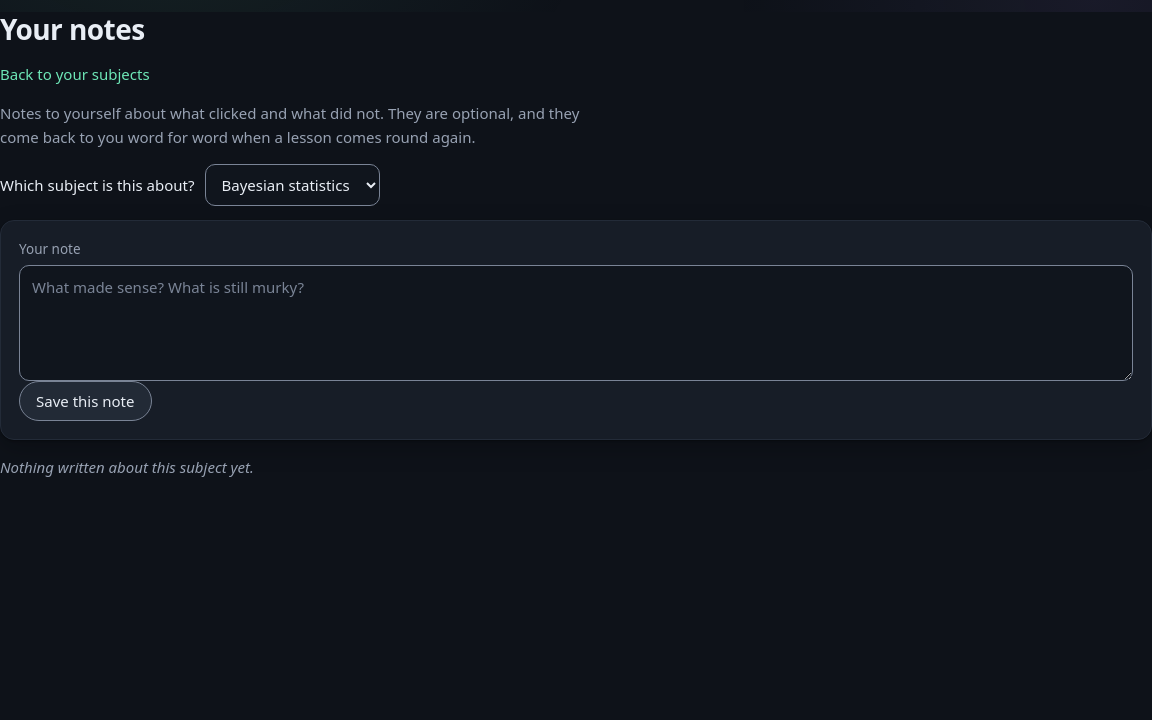
the reflection journal › shows the latest version after an edit, still verbatim
The width and height of the screenshot is (1152, 720).
Expected: the element with test id "journal" is shown, [0,164,1151,479]
Type "first thought" into the text box with test id "reflection-text" at (576,323), box [19,265,1133,381]
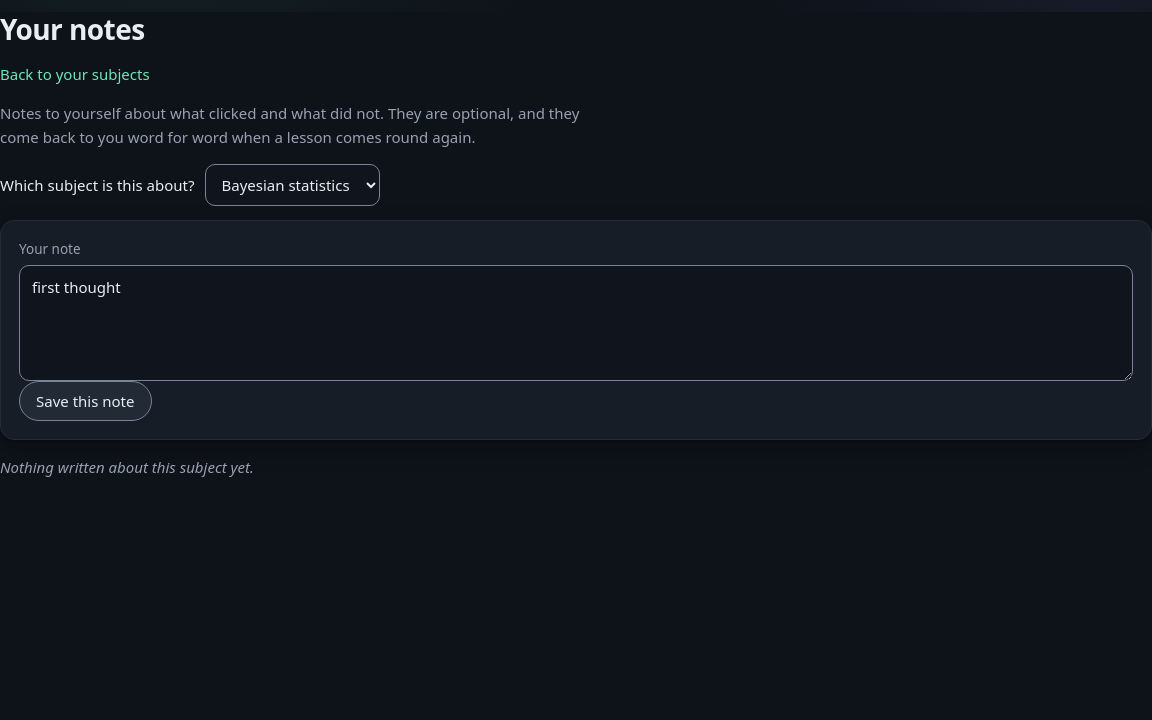
Click the button with test id "reflection-save" at (85,401), box [19,381,152,421]
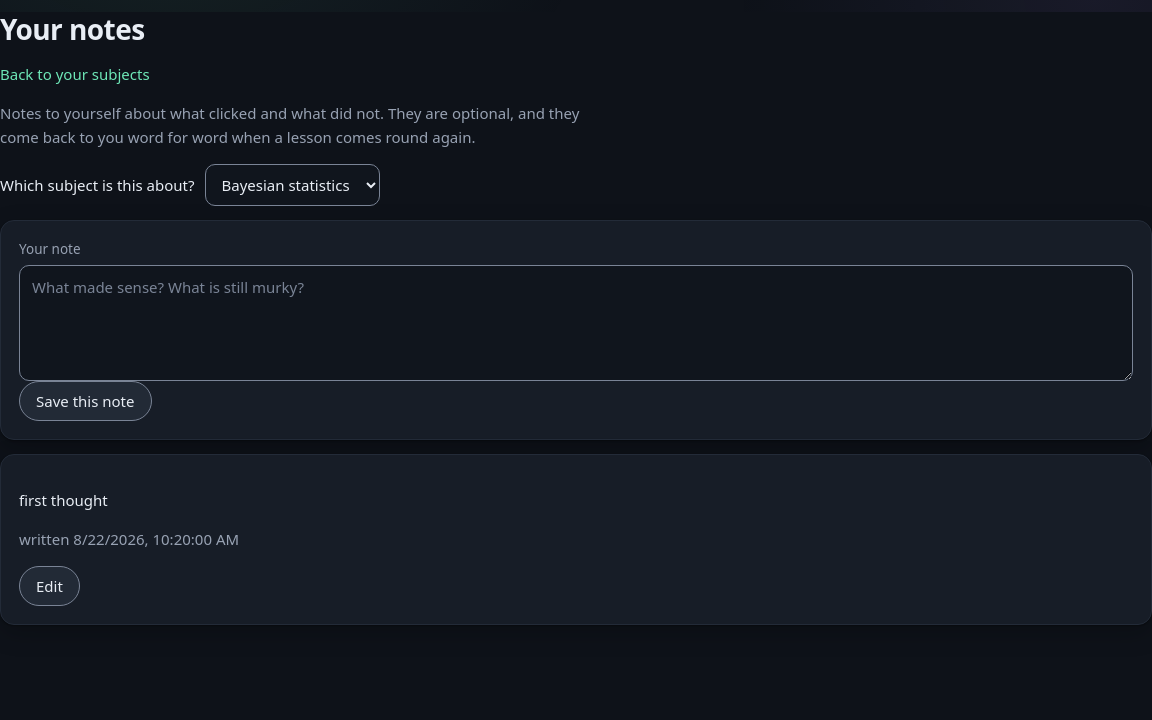
Now the button with test id "journal-edit-r_saved" is shown
Click the button with test id "journal-edit-r_saved" at (49,586), box [19,566,80,606]
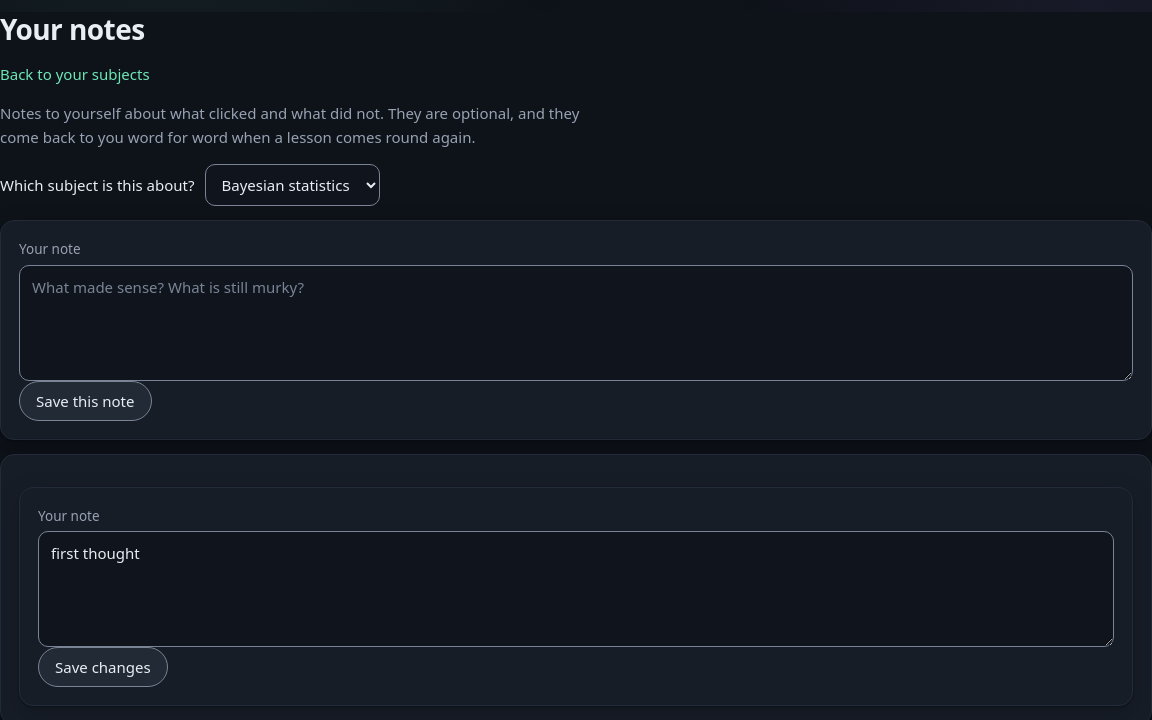
Replace the text in the 2nd text box with test id "reflection-text" with "second thought, said properly" at (576,589), box [38,531,1114,647]
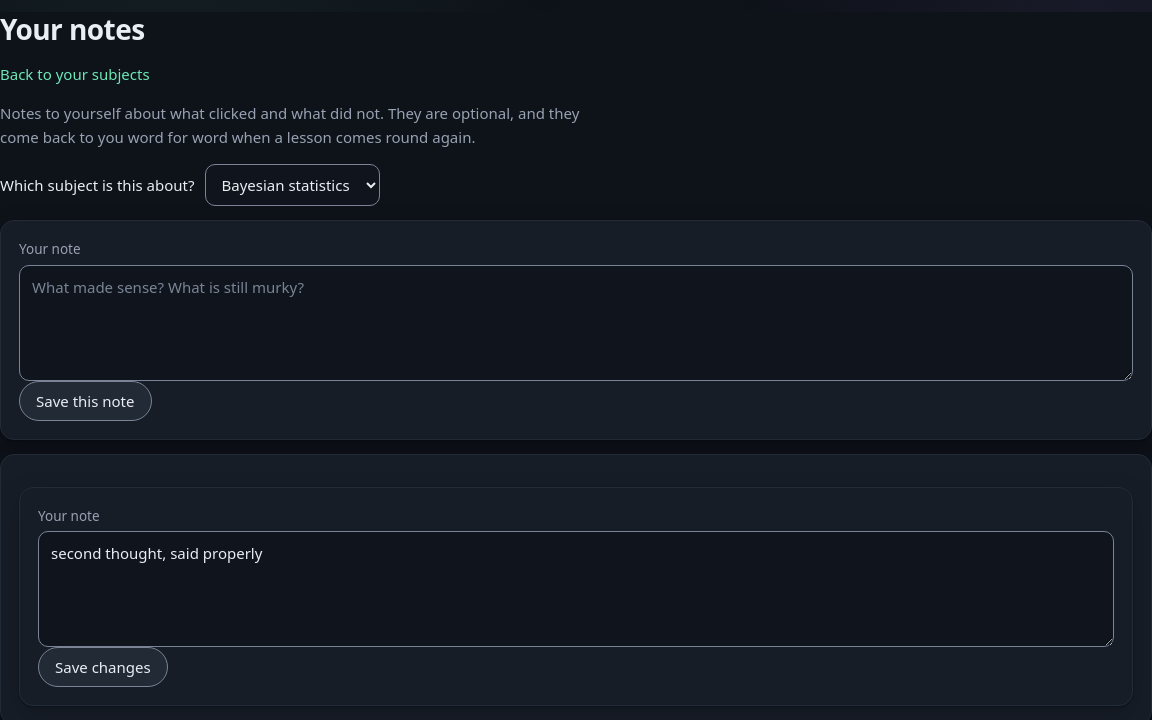
Click the button with test id "reflection-save" showing "Save changes" at (103,667), box [38,647,168,687]
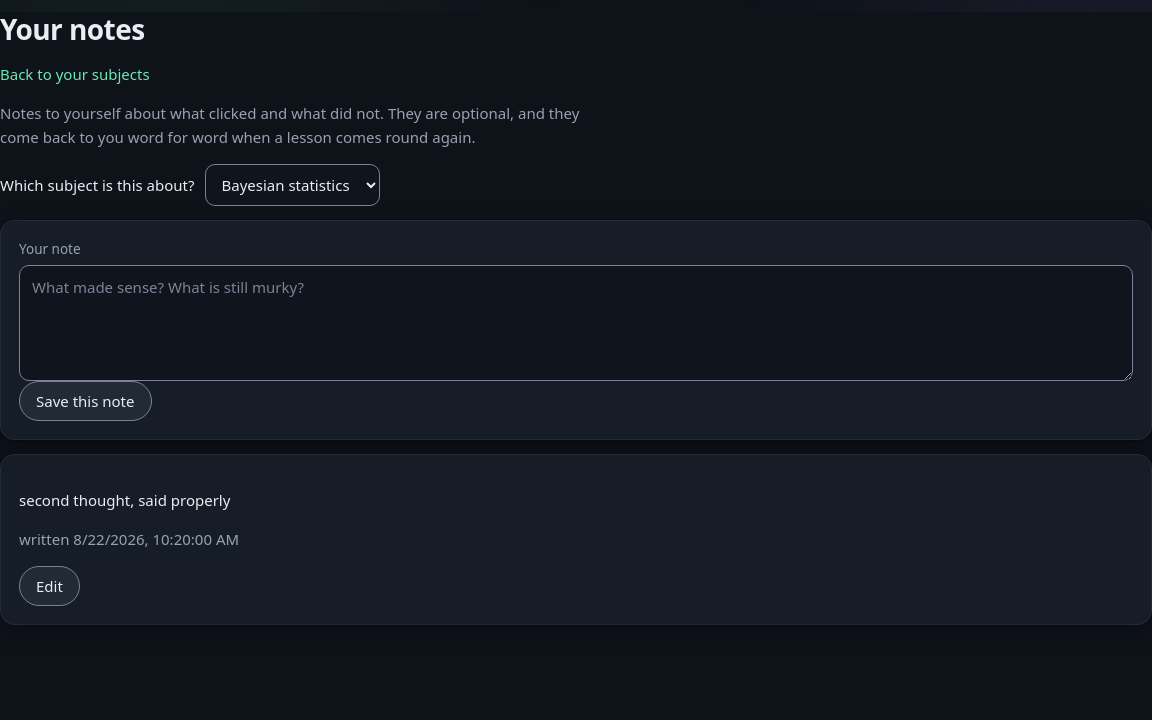
Now the text with test id "journal-entry-text" reads "second thought, said properly", box [19,490,230,510]
